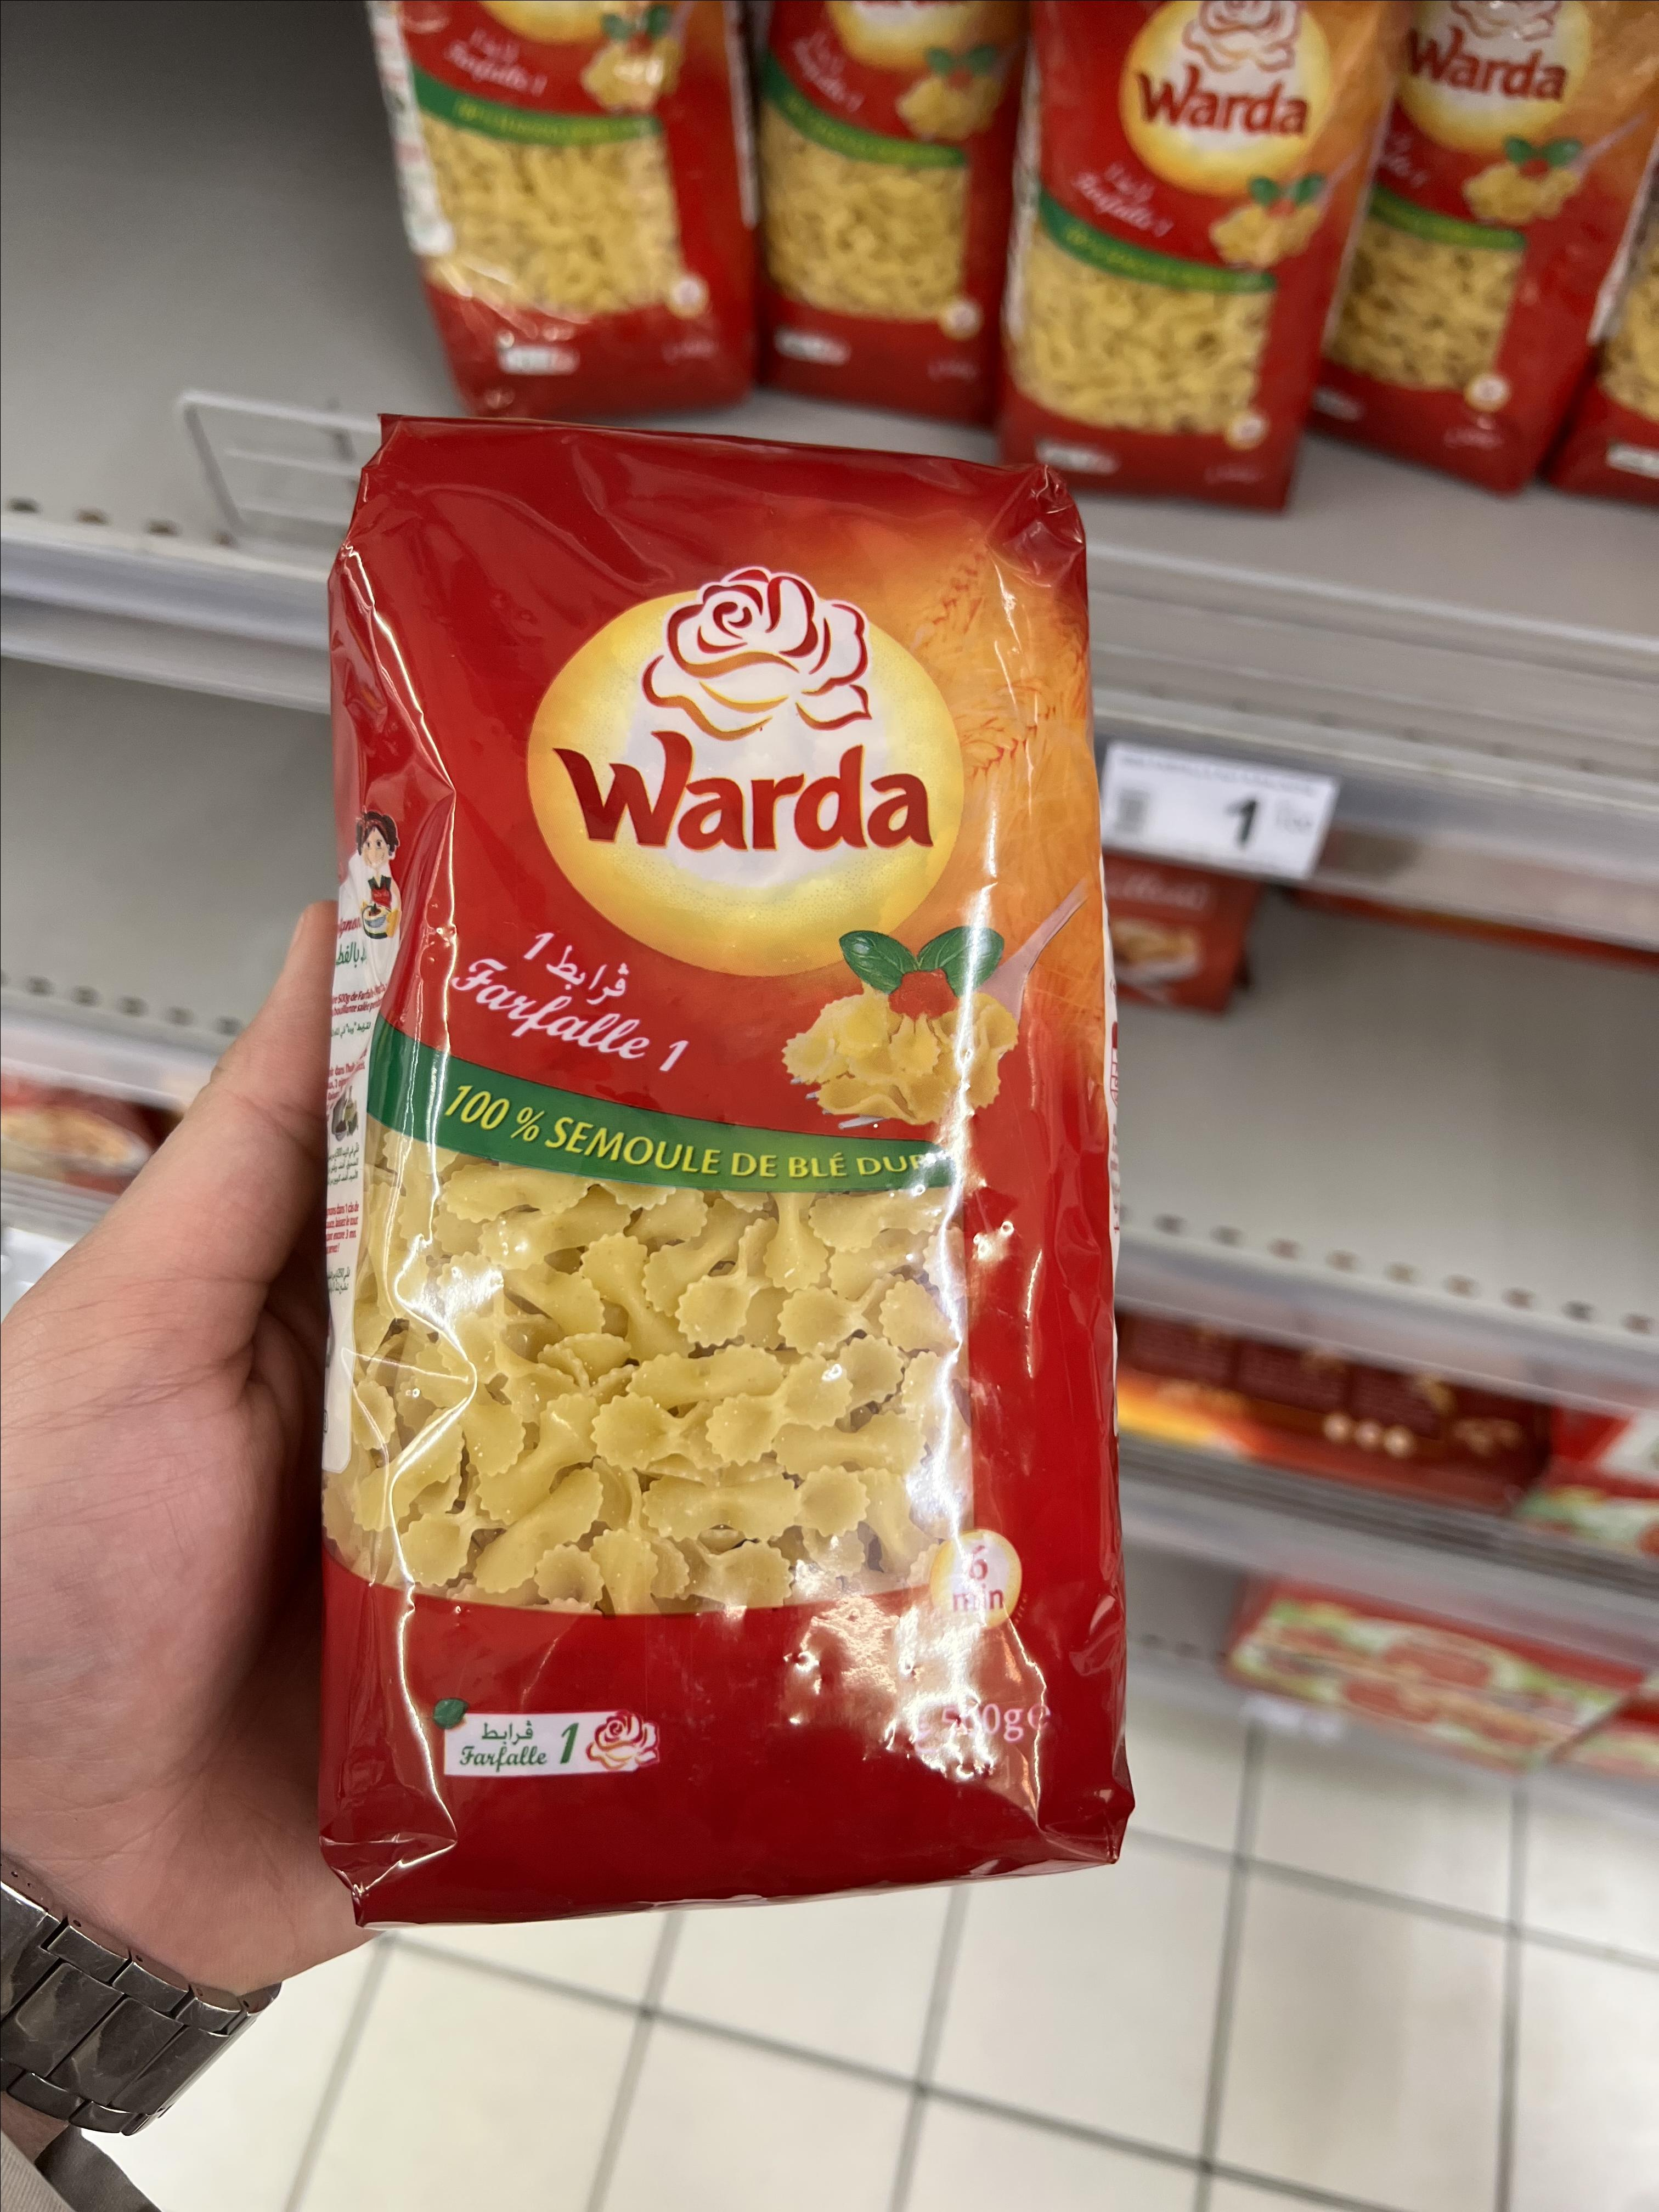Papillon: (167, 218, 565, 843)
